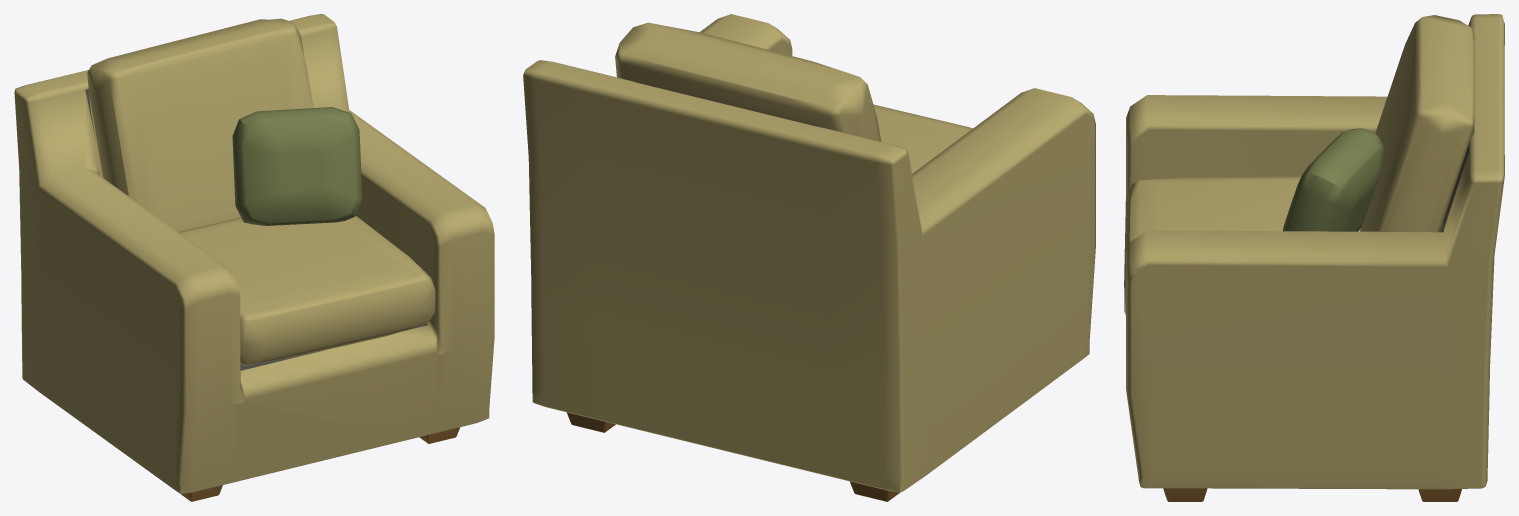
File: Armchair.fbx
3 renders of one model, left to right at view 1: azimuth 30°, elevation 25°; view 2: azimuth 150°, elevation 25°; view 3: azimuth 270°, elevation 25°, orthographic. The views are drawn at different scales.
Parts seen in each view (by area): view 1: Armchair, Pillow; view 2: Armchair; view 3: Armchair, Pillow.
Boxes of the visible parts, left/top/right/bottom form: Armchair: left=14, top=14, right=494, bottom=501; Pillow: left=232, top=107, right=362, bottom=225; Armchair: left=523, top=14, right=1095, bottom=501; Armchair: left=1124, top=14, right=1504, bottom=501; Pillow: left=1283, top=128, right=1383, bottom=231.
Size of the model in its own units: 156 by 163 by 152.
